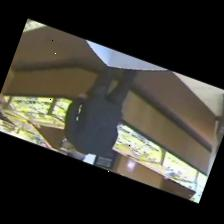person: (65, 66, 137, 160)
